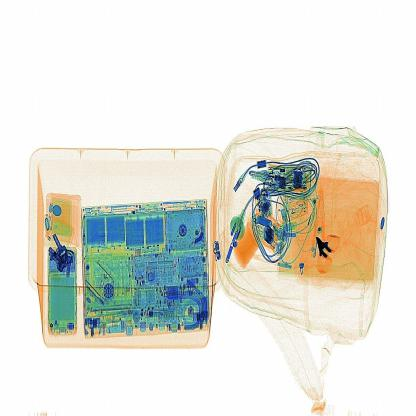gun: (310, 218, 350, 292)
